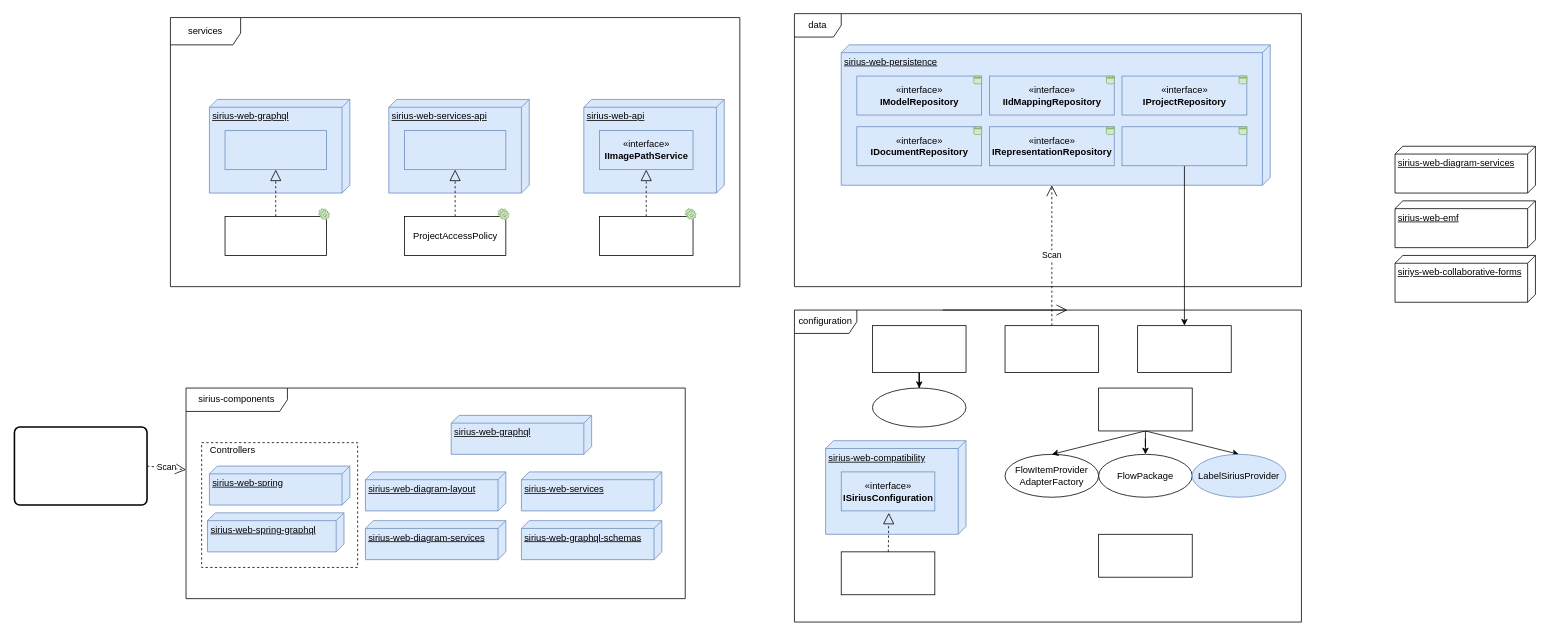
The diagram is 1549 pixels wide and 636 high, and some of its shapes have lost their labels. Here are the shapes that lost their labels. From the top down, the centre of each, then its label:
At point 275,150: "«interface» IViewerProvider".
At point 455,150: "«interface» IProjectAccessPolicy".
At point 1184,146: "«interface» IAccountRepository".
At point 275,235: "ViewerProvider".
At point 646,235: "ImagePathService".
At point 919,348: "Monitoring Configuration".
At point 1051,348: "JPA Configuration".
At point 1184,348: "Spring Web Security Configuration".
At point 919,407: "SimpleMeterRegistry".
At point 1145,409: "SampleEMF Configuration".
At point 80,465: "TestSampleApplication".
At point 887,573: "Sample Sirius Configuration".
At point 1145,555: "Spring Web MVC Configurer".
